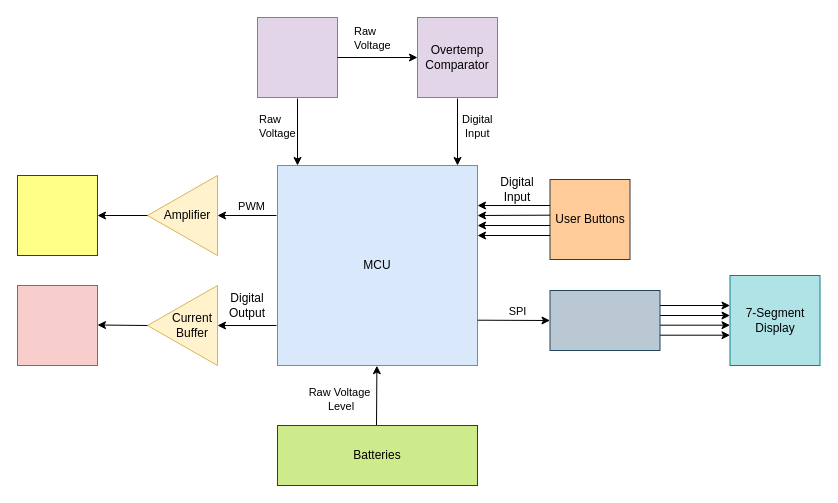
This 838x503 diagram has some shape labels left out. The centre of each missing label's shape, as x and y in pixels:
Flamethrower Relay: the point at 57,325
Serial to Parallel Shift Registers: the point at 604,320
Speaker: the point at 57,215
Temperature Sensor (Thermistor): the point at 297,57
